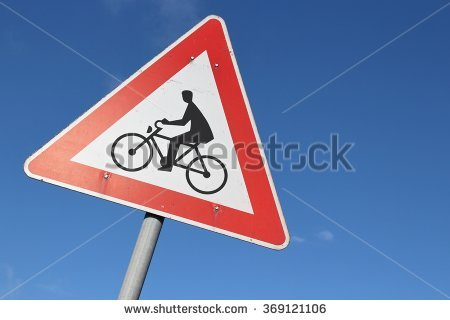crop: (22, 12, 294, 255)
